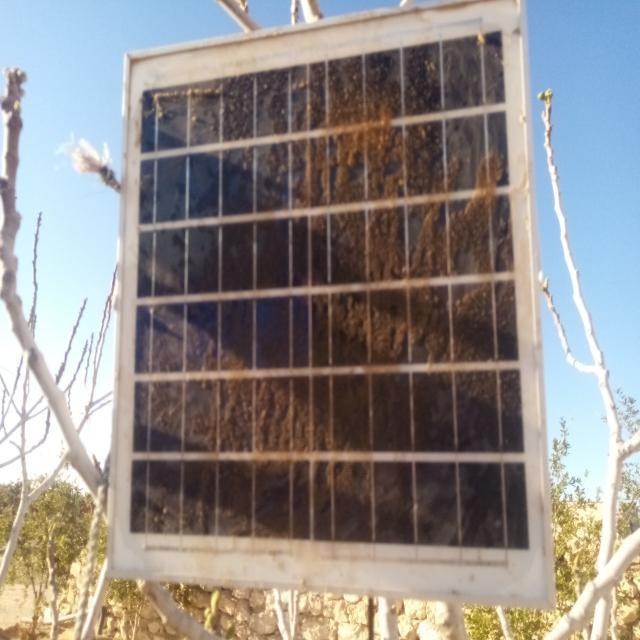Dusty: (322, 66, 510, 541), (134, 93, 324, 538), (388, 46, 502, 64), (212, 78, 320, 90)
